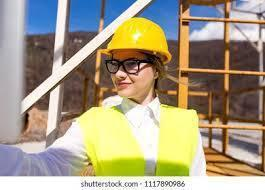helmet: (98, 18, 172, 63)
